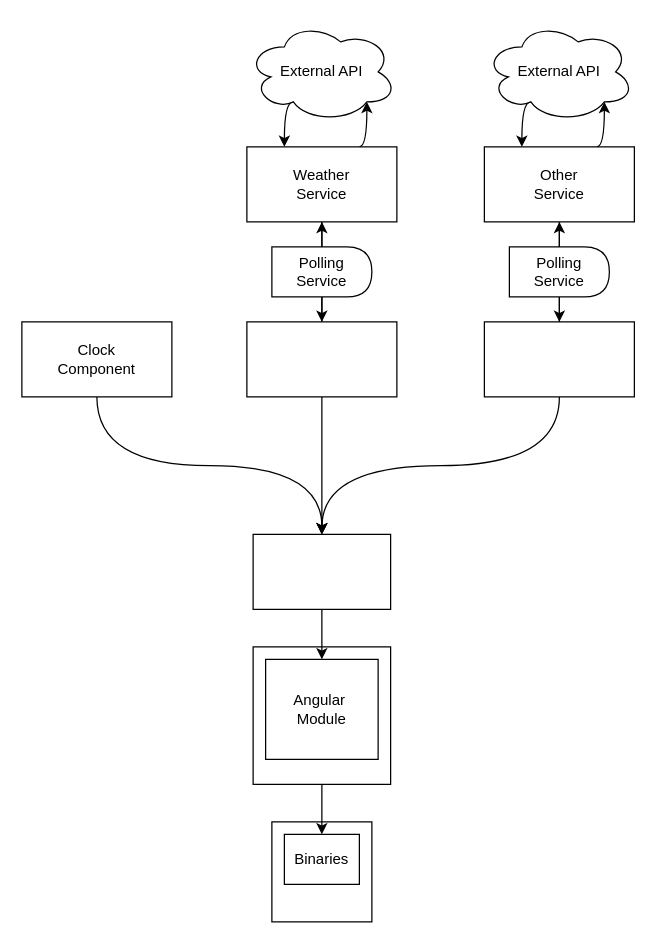
Some shapes in this 656 by 944 pixel diagram are drawn without their labels. Each missing label, with the box of its shape:
Electron App: (252, 646, 391, 784)
Main Angular Component: (252, 533, 391, 609)
Other Component: (483, 321, 634, 397)
Raspberry Pi: (271, 821, 372, 922)
Weather Component: (246, 321, 397, 397)
